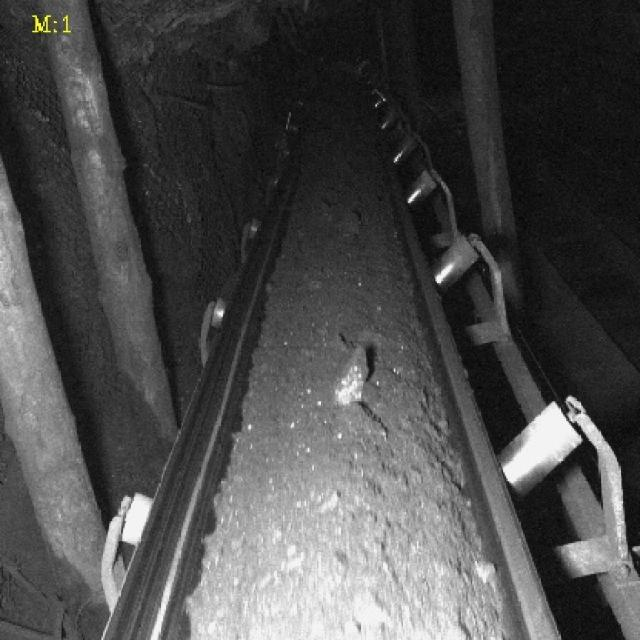large_sized_coal: (328, 349, 369, 405)
